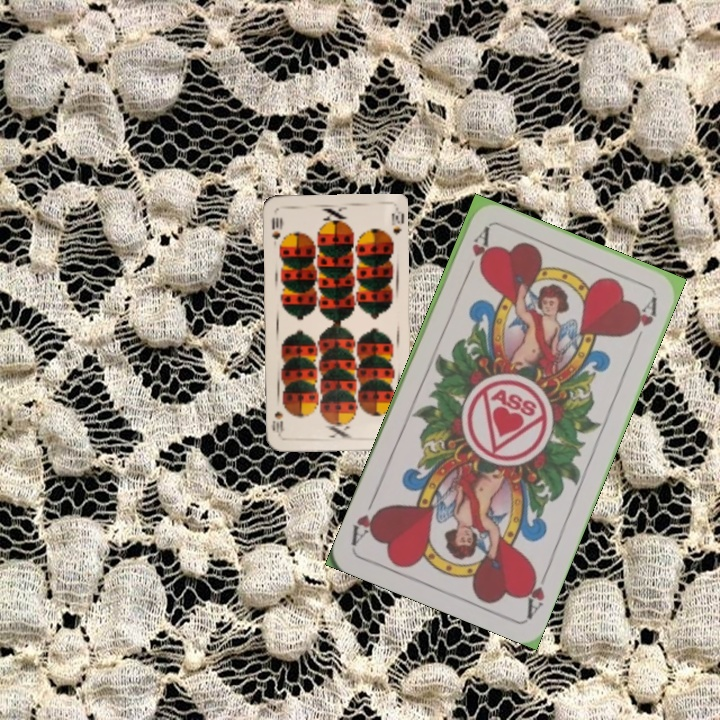HA: (520, 563, 553, 620), (461, 224, 492, 281)
S10: (268, 213, 284, 242)
